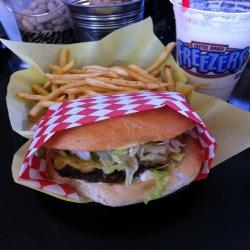burger: (28, 99, 215, 218)
fries: (27, 51, 194, 123)
